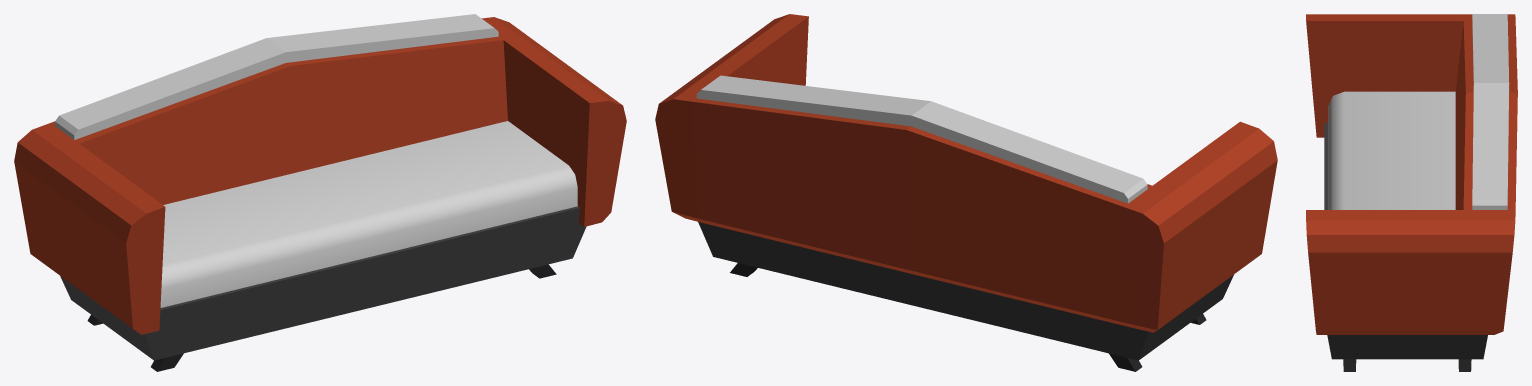
Rendered from Sofa_1.fbx.
3 renders of one model, left to right at view 1: azimuth 30°, elevation 25°; view 2: azimuth 150°, elevation 25°; view 3: azimuth 270°, elevation 25°, orthographic. The views are drawn at different scales.
Visible parts, largest first — view 1: Sofa_1; view 2: Sofa_1; view 3: Sofa_1.
Part boxes in pixels (x1,y1,x2,y2): Sofa_1: (14,14,626,371); Sofa_1: (655,14,1277,371); Sofa_1: (1306,14,1517,371).
Size of the model in its own units: 238 by 99.31 by 95.36.
